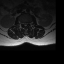CCS_normal: (24, 21, 26, 27)
LFS_stenosis: (27, 21, 29, 25)
LLS_normal: (26, 21, 28, 26)
RFS_stenosis: (21, 21, 23, 25)
RLS_normal: (23, 21, 24, 26)
